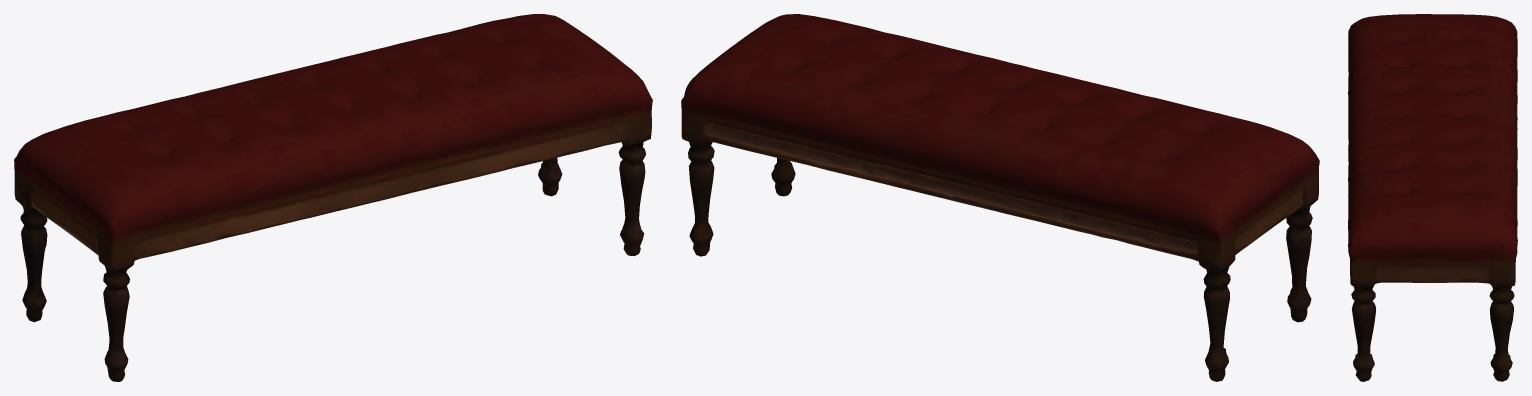
File: banco_tapizado.glb
3 views of the same model, side by side, from view 1: azimuth 30°, elevation 25°; view 2: azimuth 150°, elevation 25°; view 3: azimuth 270°, elevation 25° (orthographic). The views are drawn at different scales.
Visible parts, largest first — view 1: geometry_0; view 2: geometry_0; view 3: geometry_0.
Boxes of the visible parts, x1=… form: geometry_0: x1=14, y1=14, x2=652, y2=381; geometry_0: x1=681, y1=14, x2=1319, y2=381; geometry_0: x1=1348, y1=14, x2=1517, y2=381.
Size of the model in its own units: 1.4 by 0.48 by 0.45.
Materials: 1 (1 with a texture image).
